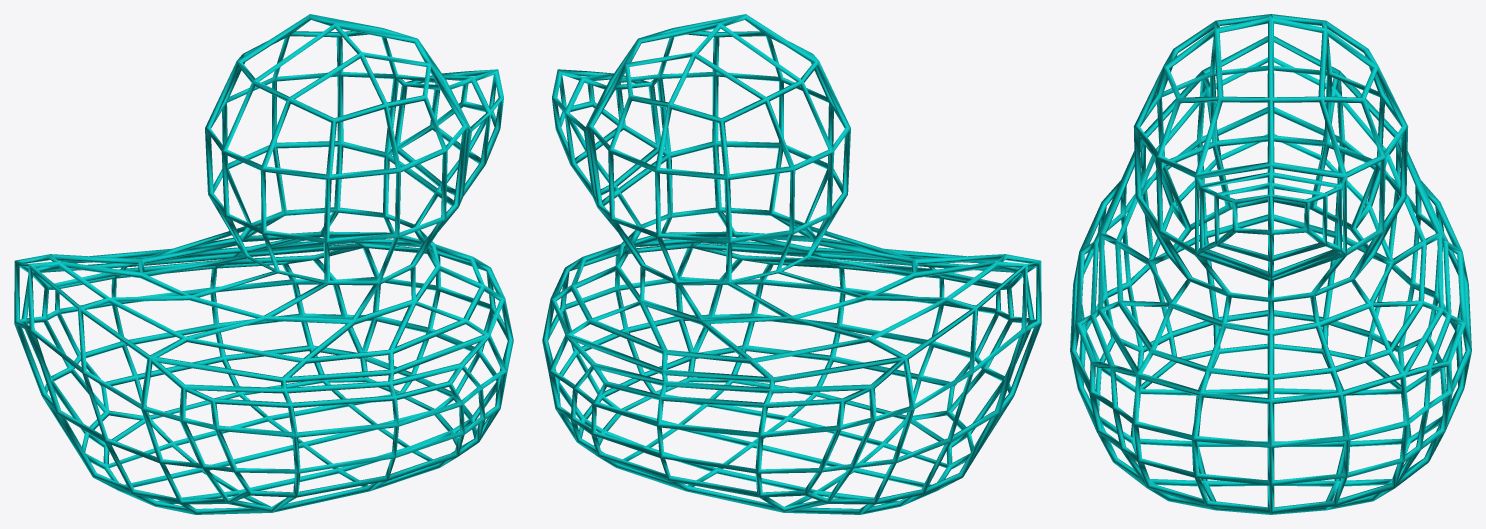
The model's file is Rubber_Ducky.obj.
3 renders of one model, left to right at view 1: azimuth 30°, elevation 25°; view 2: azimuth 150°, elevation 25°; view 3: azimuth 270°, elevation 25°, orthographic. The views are drawn at different scales.
Parts seen in each view (by area): view 1: RubberDuck_LOD2; view 2: RubberDuck_LOD2; view 3: RubberDuck_LOD2.
Part boxes in pixels (bbox=[...]): RubberDuck_LOD2: bbox=[14, 14, 513, 514]; RubberDuck_LOD2: bbox=[542, 14, 1041, 514]; RubberDuck_LOD2: bbox=[1070, 14, 1471, 514].
Bounding box in the file's own units: 45.12 × 38.27 × 31.19.
